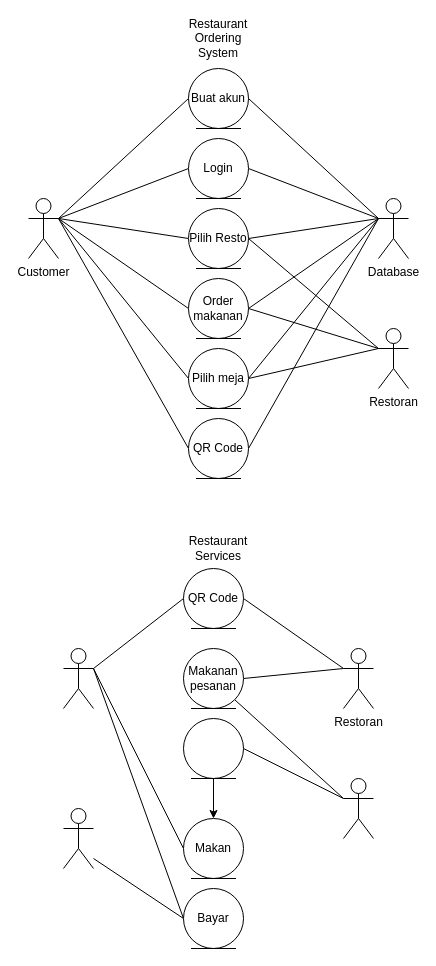
Image size: 436x966. Some labels were removed from this diagram. Each missing label, with the centre of its shape:
"Chef" belongs at [358,808].
"Custromer" belongs at [78,678].
"Kasir" belongs at [78,838].
"Masak pesanan" belongs at [213,748].
